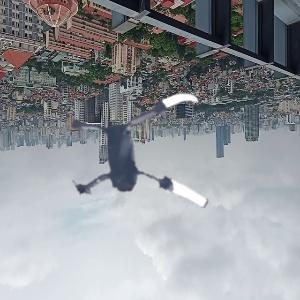drone: (50, 72, 228, 250)
